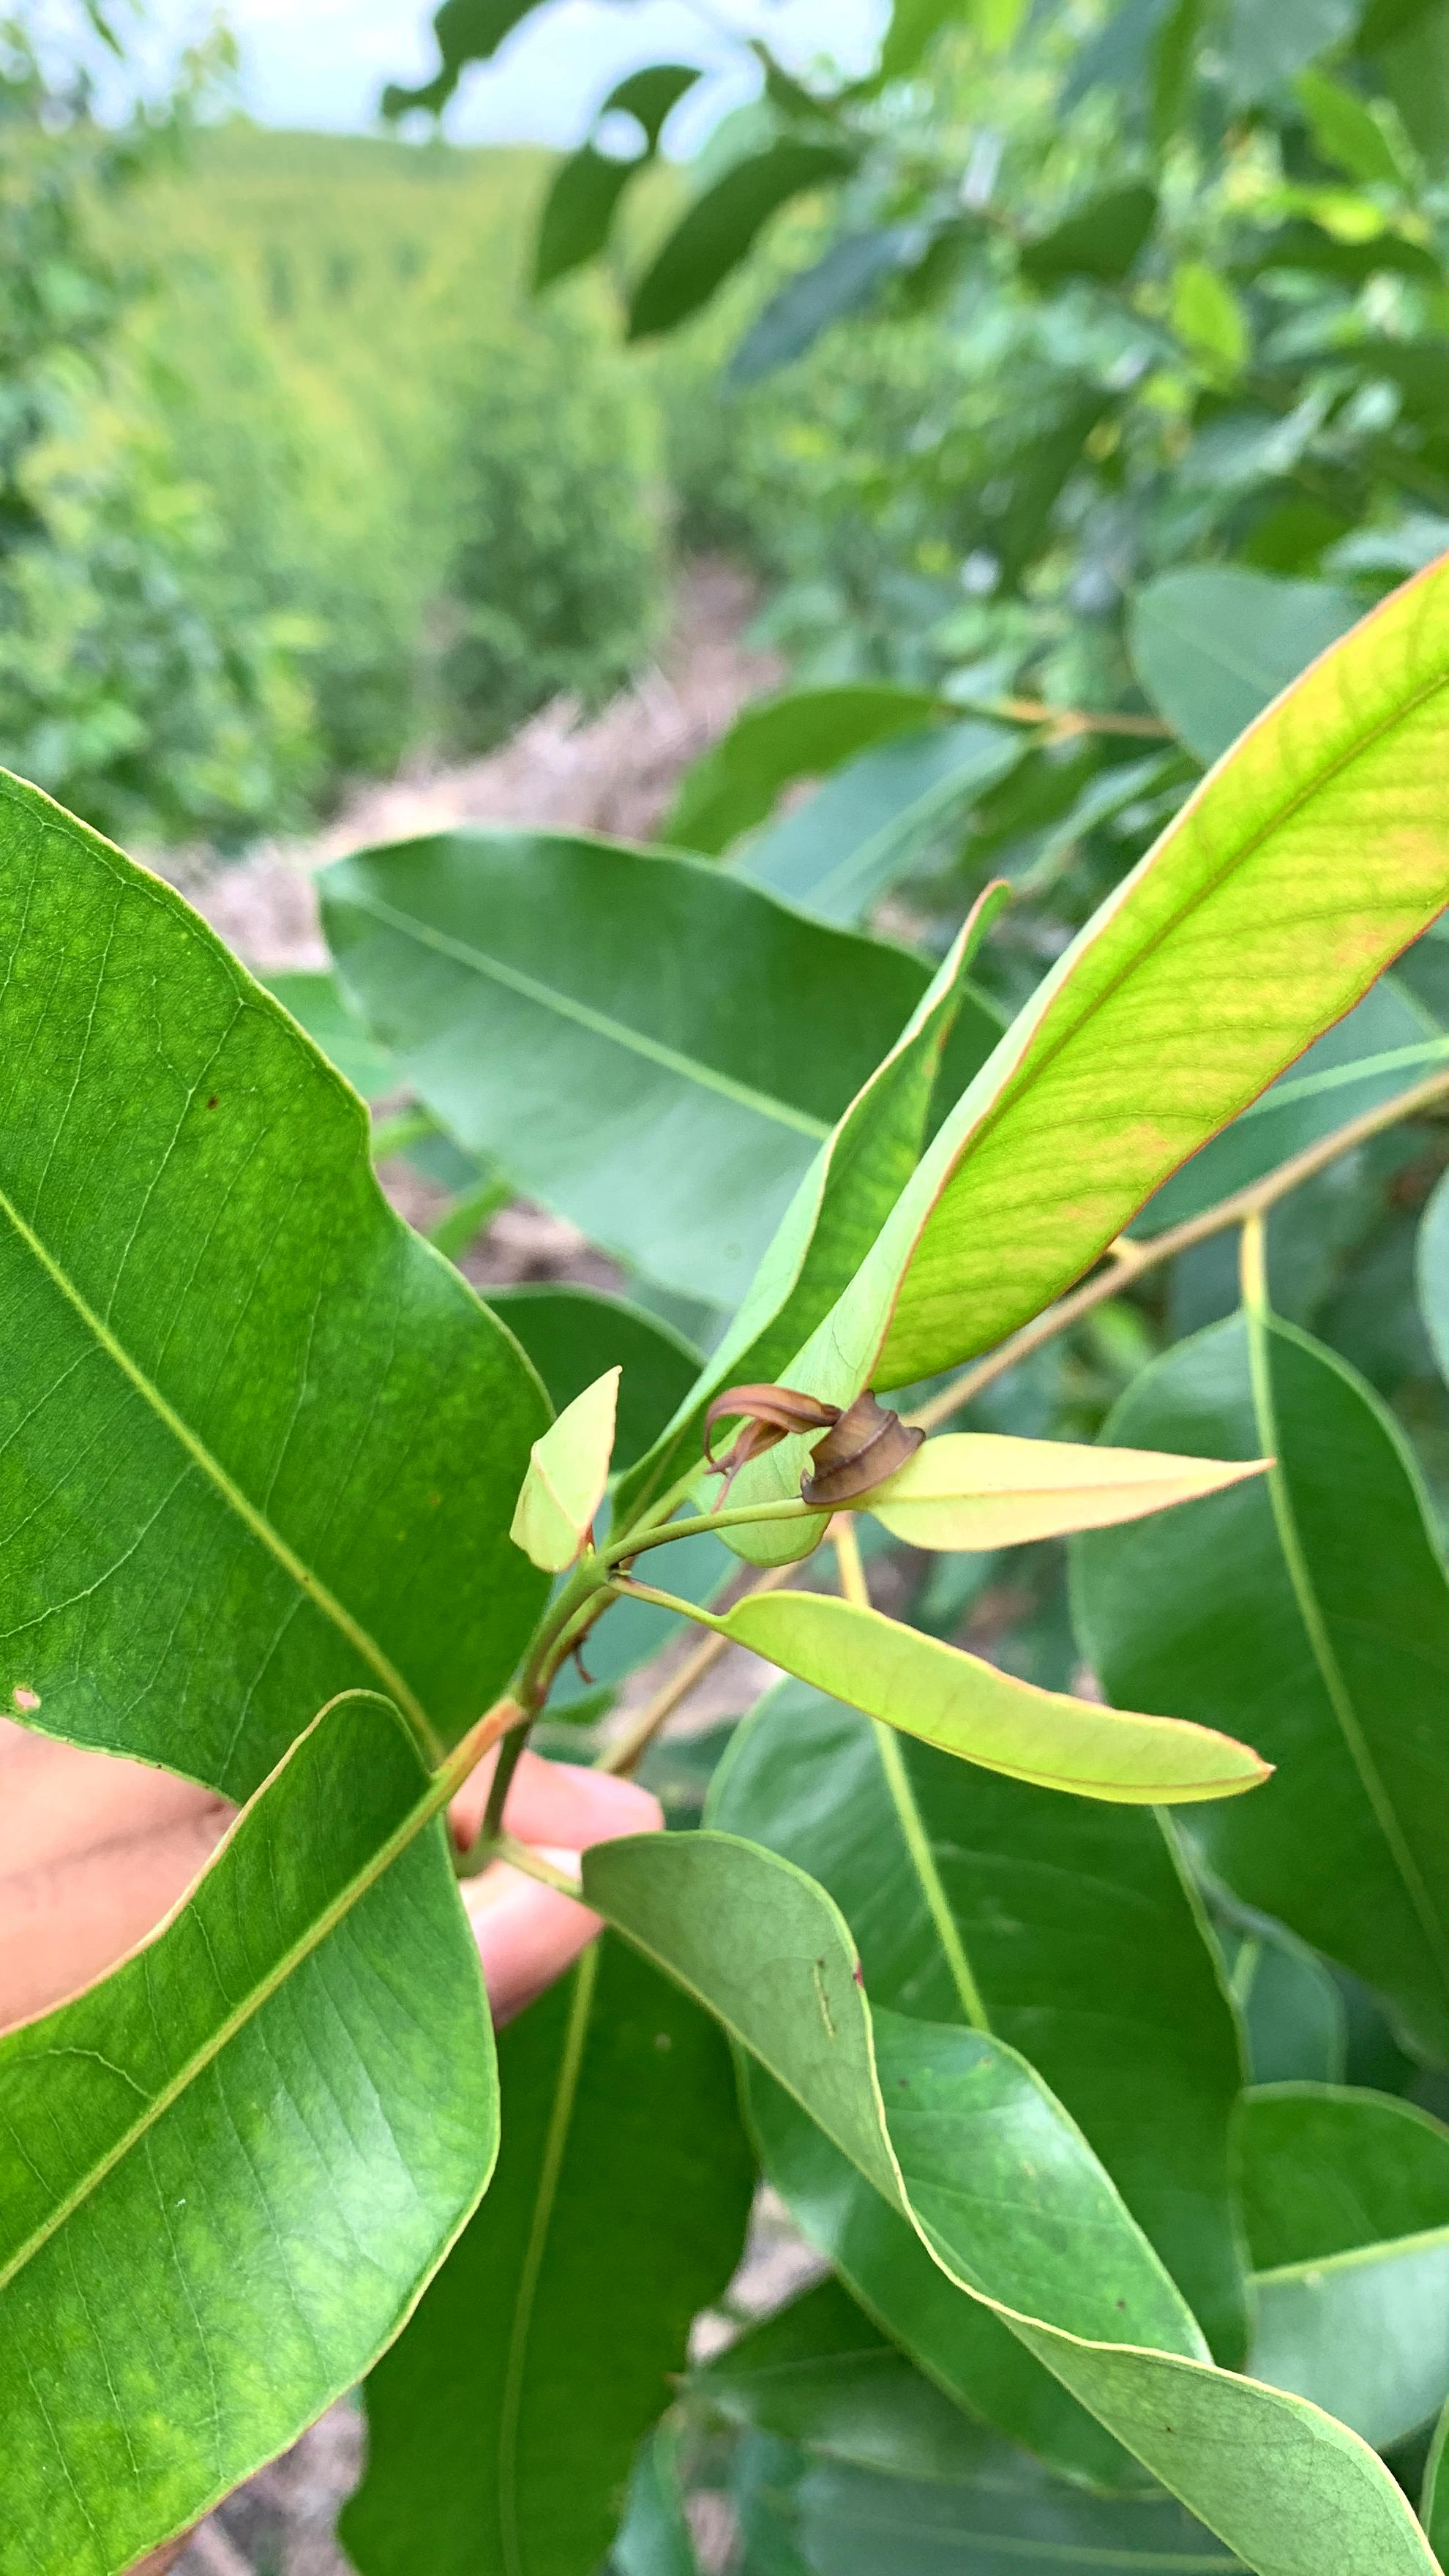Helopeltis-Withered Sprout: (646, 1311, 989, 1617)
